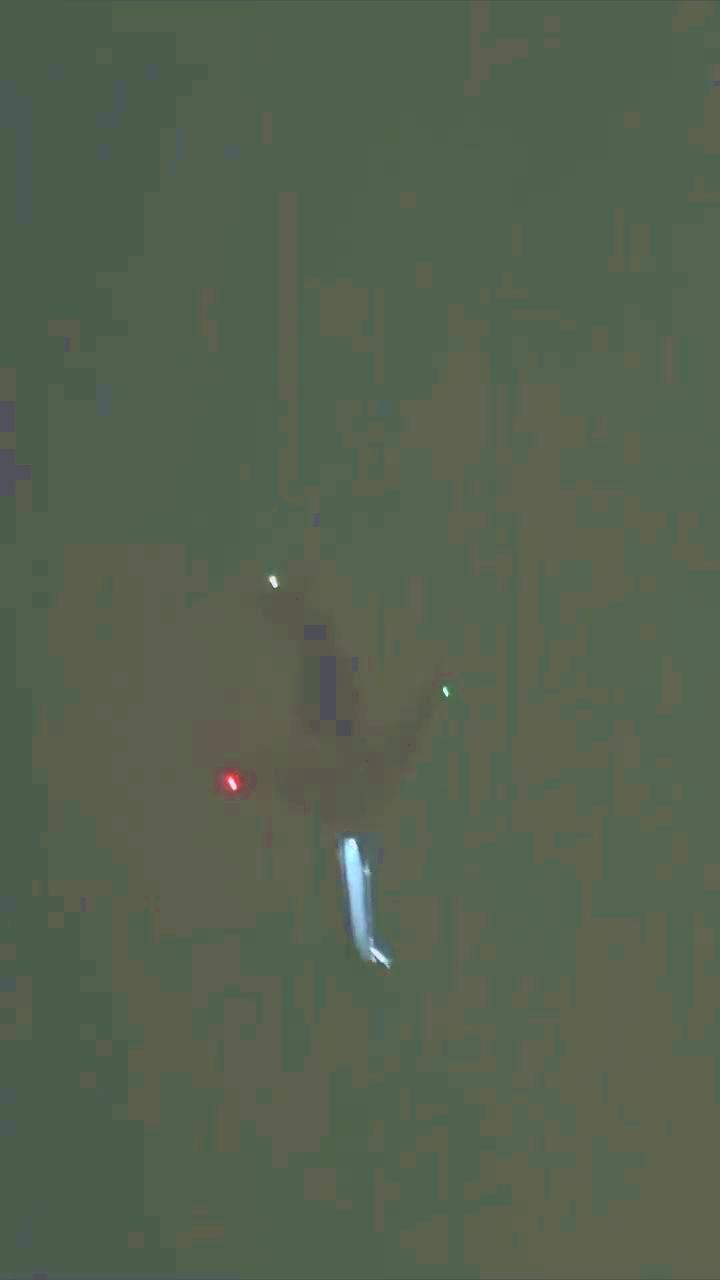Plane: (220, 559, 447, 957)
